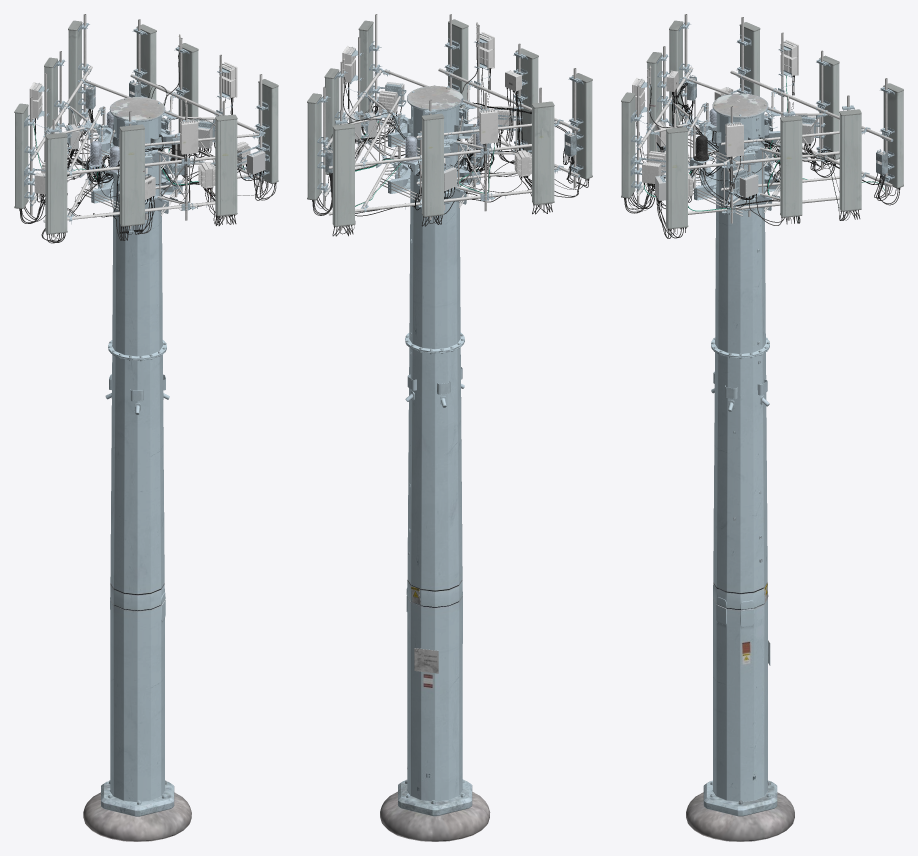
The model's file is SICA001946.glb.
3 views of the same model, side by side, from view 1: azimuth 30°, elevation 25°; view 2: azimuth 150°, elevation 25°; view 3: azimuth 270°, elevation 25° (orthographic).
Parts seen in each view (by area): view 1: frame.004, frame.002, polySurface279, Cellular_Antenna_09, Cellular_Antenna_08, Cellular_Antenna_03, frame.001, Cellular_Antenna_04, Cellular_Antenna_07, Cellular_Antenna_06, Cellular_Antenna_02, Cellular_Antenna_01 (+7 smaller); view 2: frame.004, frame.002, polySurface279, Cellular_Antenna_07, Cellular_Antenna_06, Cellular_Antenna_05, frame.001, Cellular_Antenna_08, Cellular_Antenna_01, Cellular_Antenna_09, Cellular_Antenna_03, polySurface224 (+4 smaller); view 3: frame.004, frame.002, polySurface279, Cellular_Antenna_02, Cellular_Antenna_01, Cellular_Antenna_04, Cellular_Antenna_06, Cellular_Antenna_05, frame.001, Cellular_Antenna_03, Cellular_Antenna_07, Cellular_Antenna_08 (+6 smaller).
Boxes of the visible parts, <box> form: frame.004: <box>35,80,231,841</box>; frame.002: <box>30,54,263,222</box>; polySurface279: <box>19,52,276,243</box>; Cellular_Antenna_09: <box>119,124,144,226</box>; Cellular_Antenna_08: <box>45,132,67,234</box>; Cellular_Antenna_03: <box>215,114,237,216</box>; frame.001: <box>30,67,265,224</box>; Cellular_Antenna_04: <box>258,79,278,183</box>; Cellular_Antenna_07: <box>14,103,28,208</box>; Cellular_Antenna_06: <box>68,20,82,125</box>; Cellular_Antenna_02: <box>178,43,198,132</box>; Cellular_Antenna_01: <box>136,24,156,99</box>; frame.004: <box>325,75,576,841</box>; frame.002: <box>324,22,579,215</box>; polySurface279: <box>312,41,589,236</box>; Cellular_Antenna_07: <box>532,101,554,204</box>; Cellular_Antenna_06: <box>332,123,354,226</box>; Cellular_Antenna_05: <box>421,113,444,217</box>; frame.001: <box>324,38,580,211</box>; Cellular_Antenna_08: <box>572,73,592,179</box>; Cellular_Antenna_01: <box>307,93,321,200</box>; Cellular_Antenna_09: <box>515,48,538,153</box>; Cellular_Antenna_03: <box>448,19,468,122</box>; polySurface224: <box>376,109,410,193</box>; frame.004: <box>680,75,887,841</box>; frame.002: <box>635,32,893,223</box>; polySurface279: <box>624,75,900,238</box>; Cellular_Antenna_02: <box>780,115,802,217</box>; Cellular_Antenna_01: <box>839,109,861,211</box>; Cellular_Antenna_04: <box>666,127,688,229</box>; Cellular_Antenna_06: <box>883,83,903,188</box>; Cellular_Antenna_05: <box>819,55,839,159</box>; frame.001: <box>636,45,893,214</box>; Cellular_Antenna_03: <box>621,92,635,198</box>; Cellular_Antenna_07: <box>739,22,760,96</box>; Cellular_Antenna_08: <box>669,20,683,125</box>.
Size of the model in its own units: 4.86 by 15.31 by 5.19.
7 materials, 5 textured.
